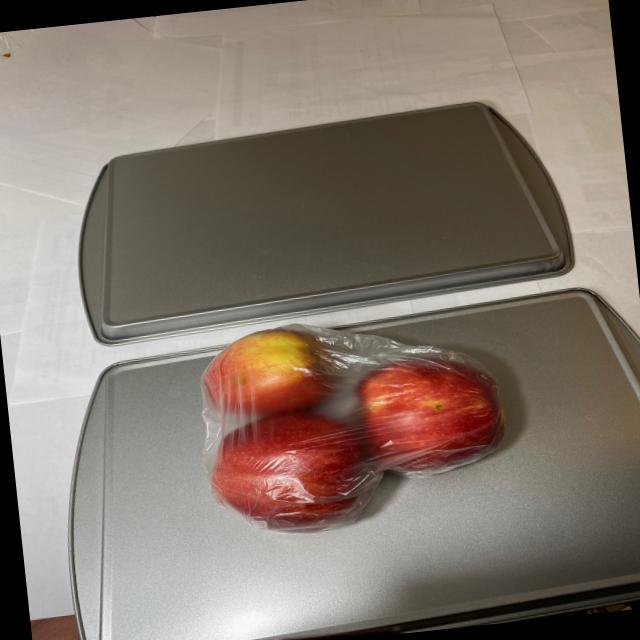apple: (194, 302, 529, 543)
